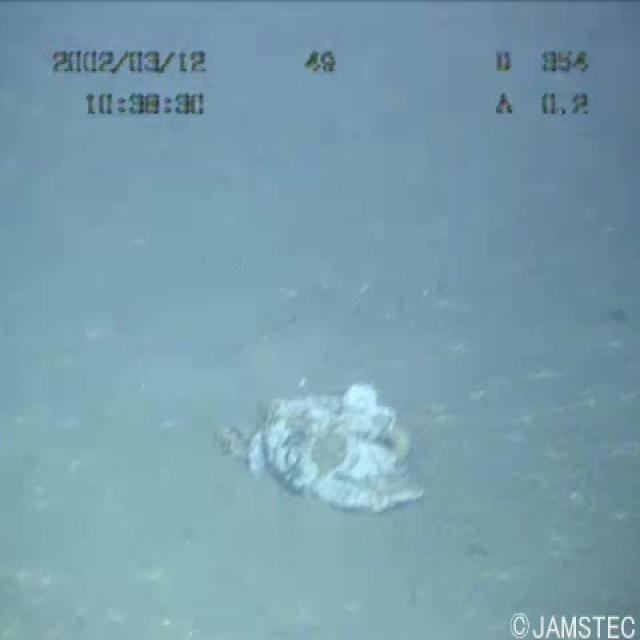plastic: (189, 375, 435, 526)
